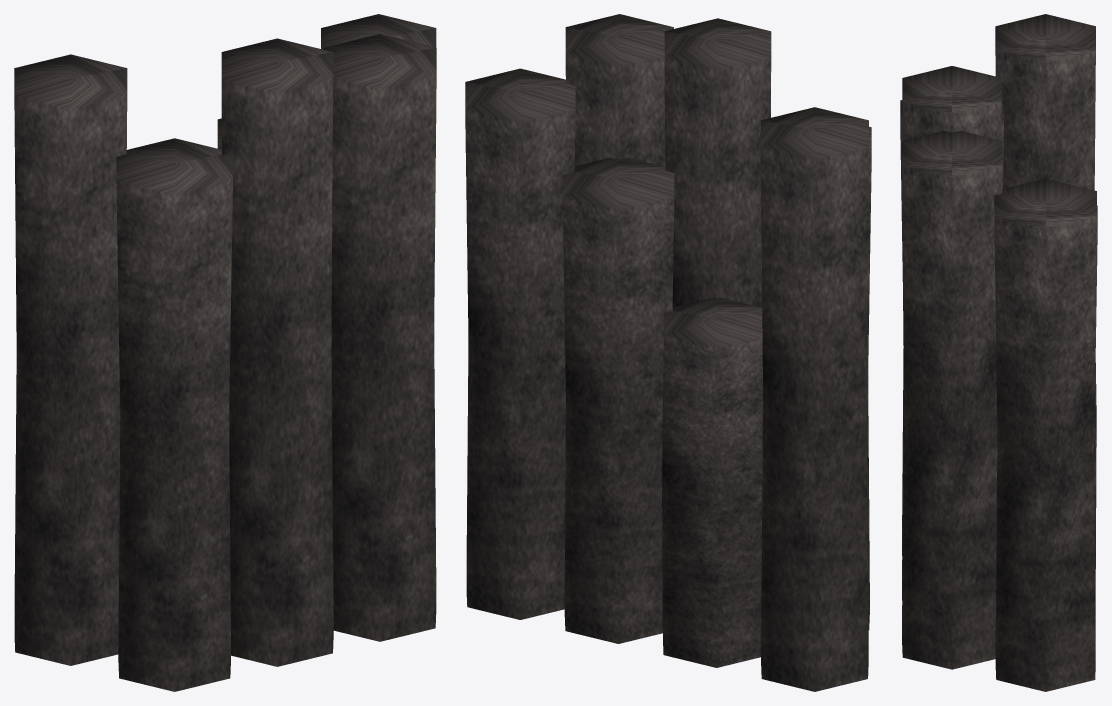
The model's file is rock_volcanic_basalt_columns_a.glb.
3 renders of one model, left to right at view 1: azimuth 30°, elevation 25°; view 2: azimuth 150°, elevation 25°; view 3: azimuth 270°, elevation 25°, orthographic. The views are drawn at different scales.
Visible parts, largest first — view 1: rock_volcanic_basalt_columns_a; view 2: rock_volcanic_basalt_columns_a; view 3: rock_volcanic_basalt_columns_a.
Part boxes in pixels (x1,y1,x2,y2): rock_volcanic_basalt_columns_a: [14, 14, 436, 691]; rock_volcanic_basalt_columns_a: [465, 14, 871, 691]; rock_volcanic_basalt_columns_a: [900, 14, 1097, 691].
Size of the model in its own units: 2.55 by 3.33 by 1.16.
1 material, 1 textured.
